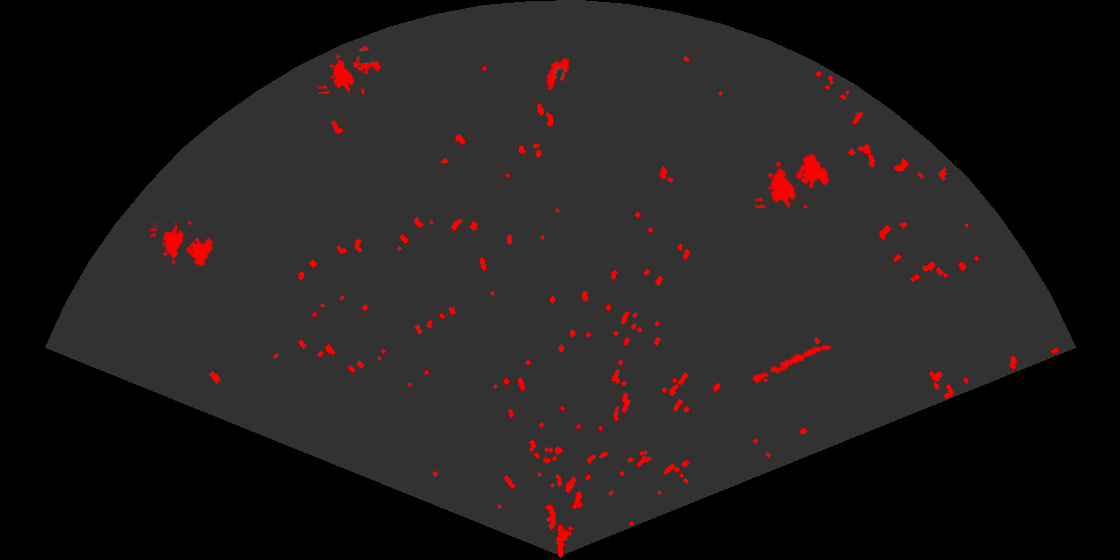AUV: (545, 56, 571, 92)
cage: (755, 152, 832, 208), (318, 44, 383, 94), (150, 221, 215, 268)
chain: (744, 343, 833, 387)
